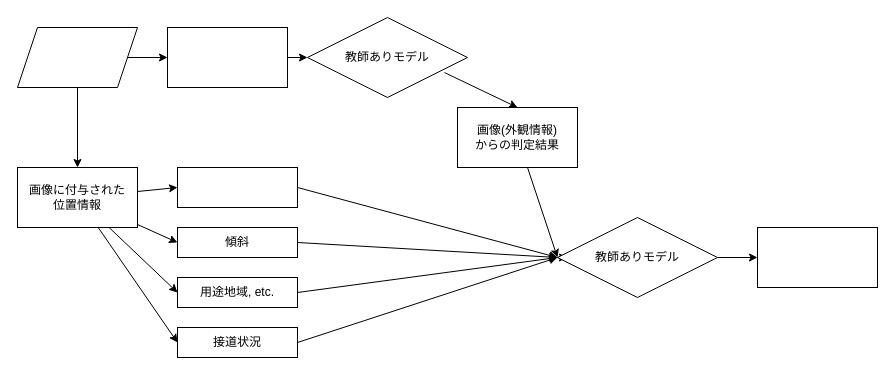
Some shapes in this 895 by 375 pixel diagram are drawn without their labels. The centre of each missing label's shape, as x and y in pixels:
"ピクセル値の配列" belongs at [227,57].
"人口情報" belongs at [237,187].
"建物の外観画像" belongs at [77,57].
"退蔵/現役の 総合的な判定結果" belongs at [817,257].
